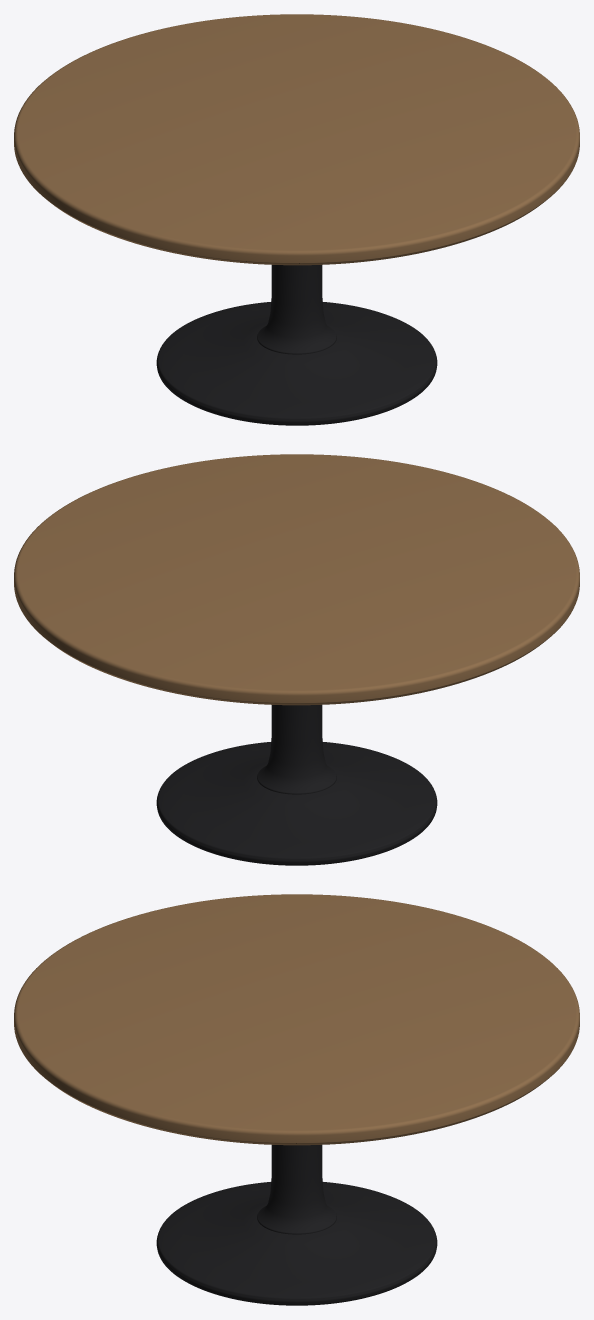
Rendered from table_round.glb.
3 renders of one model, top to bottom at view 1: azimuth 30°, elevation 25°; view 2: azimuth 150°, elevation 25°; view 3: azimuth 270°, elevation 25°, orthographic.
Parts seen in each view (by area): view 1: table_round; view 2: table_round; view 3: table_round.
Boxes of the visible parts, <box> form: table_round: <box>14,14,579,425</box>; table_round: <box>14,454,579,865</box>; table_round: <box>14,894,579,1305</box>.
Size of the model in its own units: 1.7 by 0.78 by 1.7.
